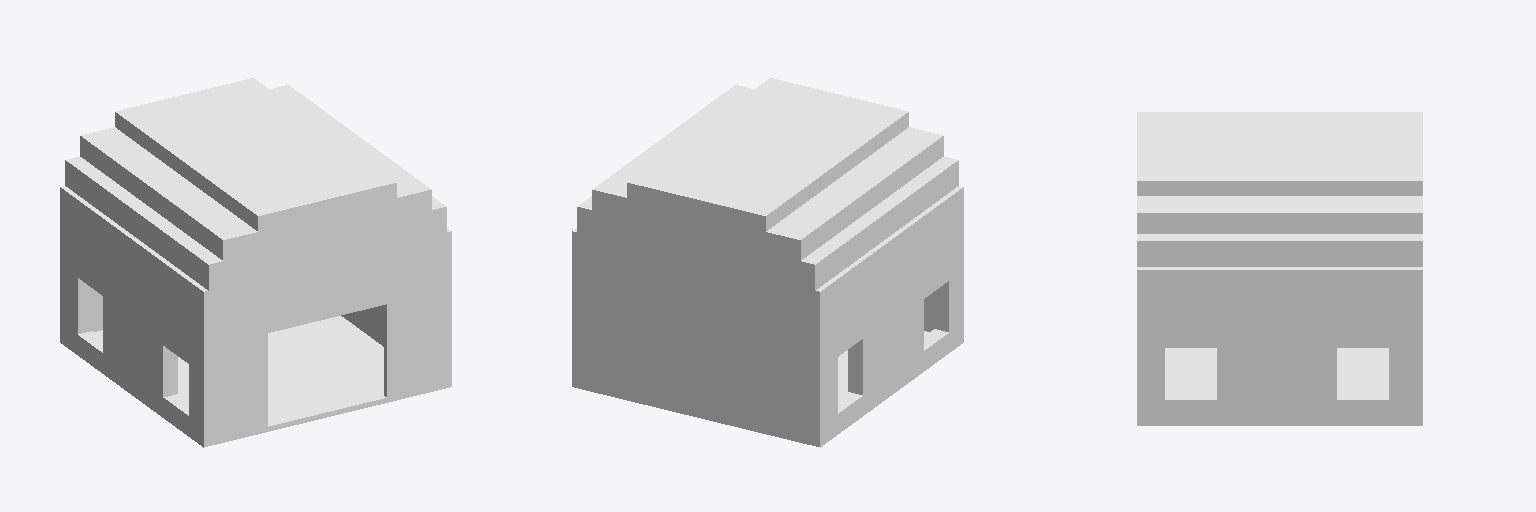
The model's file is palatka.obj.
The picture shows the model from 3 angles: view 1: azimuth 30°, elevation 25°; view 2: azimuth 150°, elevation 25°; view 3: azimuth 270°, elevation 25°; orthographic projection.
Parts seen in each view (by area): view 1: object 1; view 2: object 1; view 3: object 1.
Part boxes in pixels (x1,y1,x2,y2): object 1: (60,78,451,447); object 1: (572,78,963,447); object 1: (1137,112,1422,425).
Size of the model in its own units: 5 by 4.2 by 5.